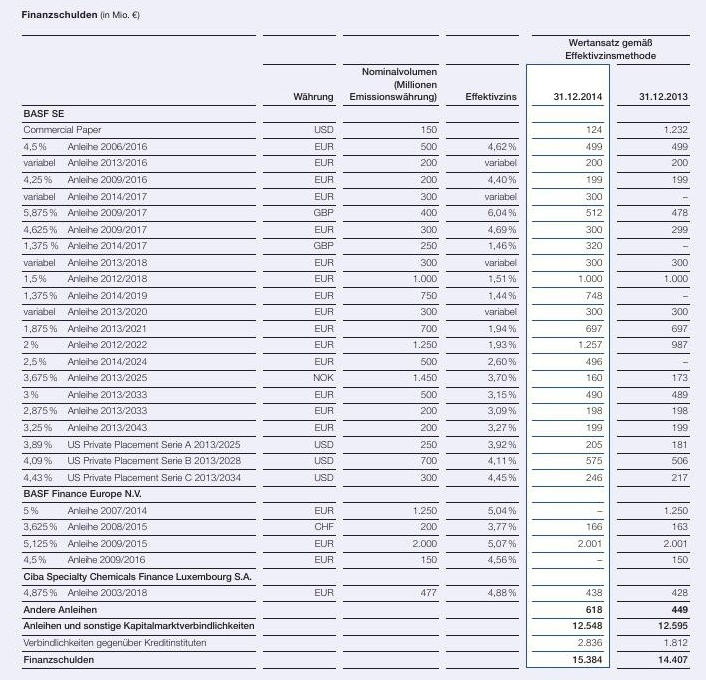table: (0, 0, 706, 680)
